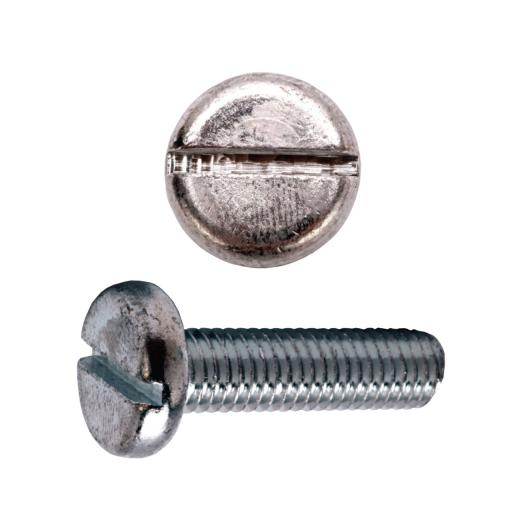Slotted: (163, 70, 362, 264), (64, 282, 192, 462)
